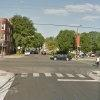Crosswalk: (19, 65, 99, 94)
